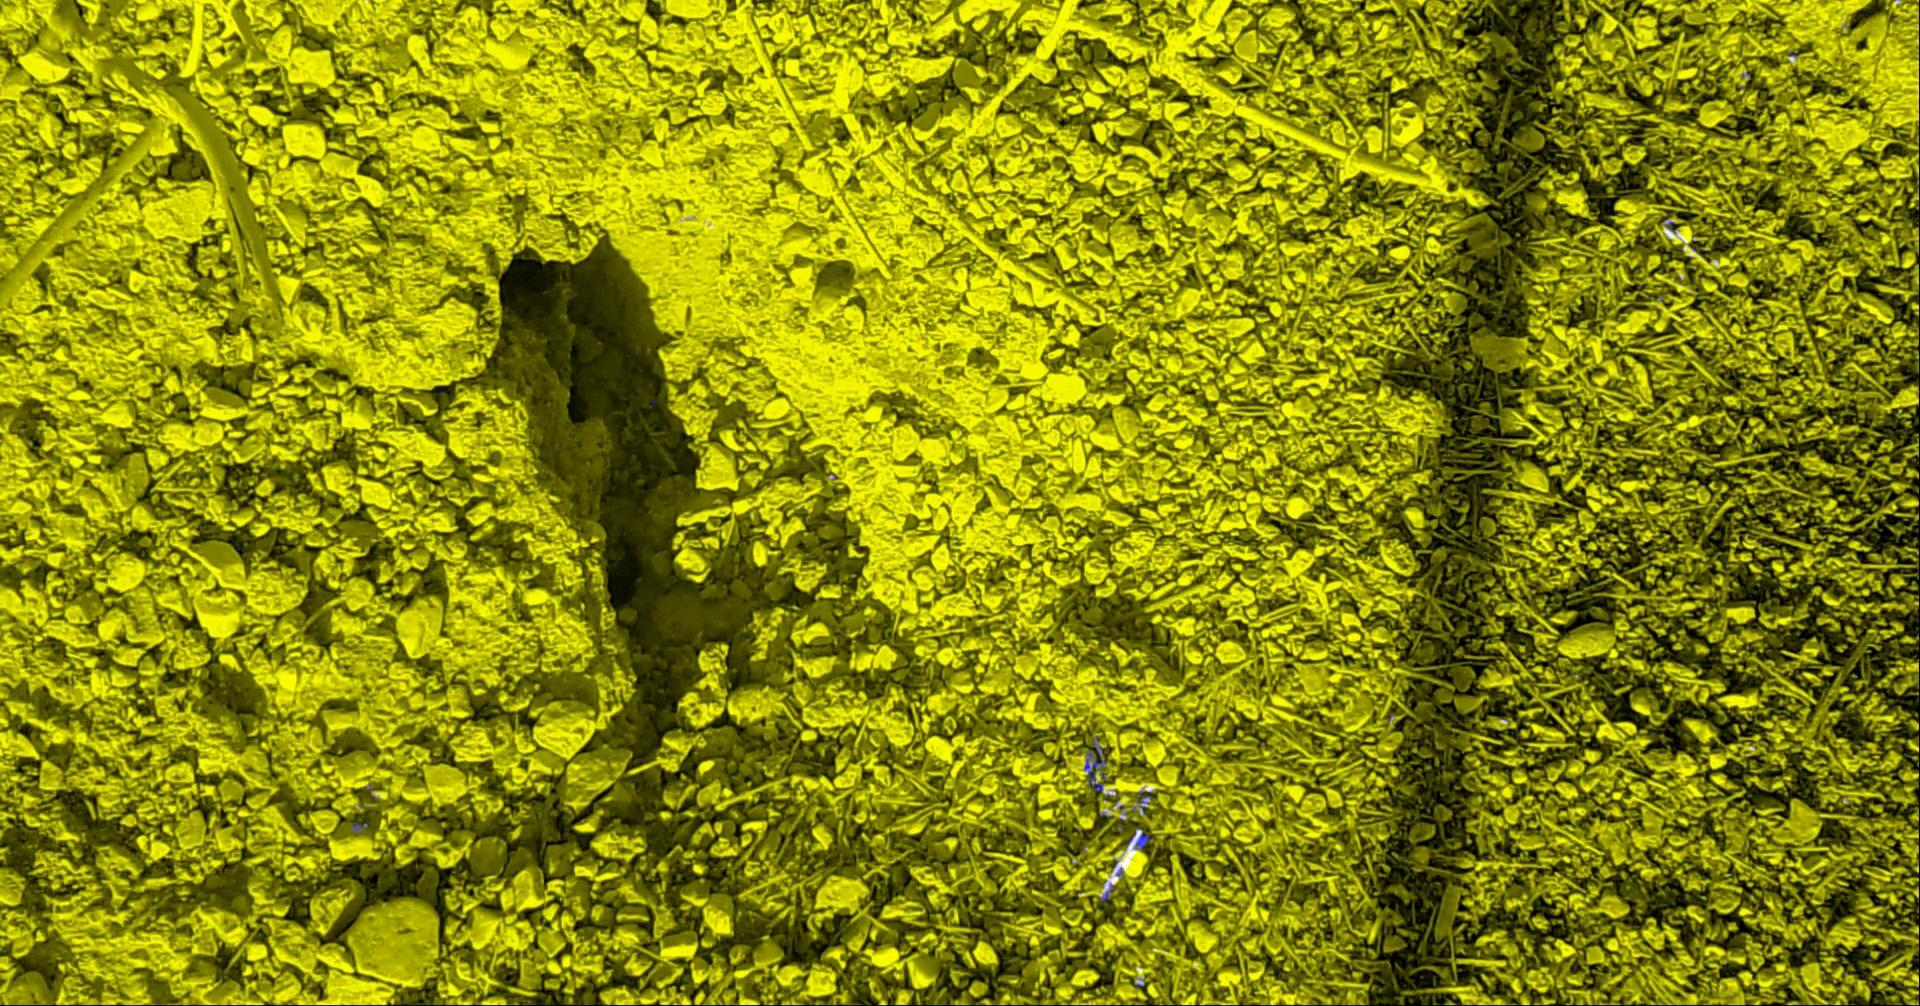ant: (1084, 735, 1105, 793), (1137, 790, 1150, 810), (1135, 829, 1149, 848), (350, 822, 367, 831)
